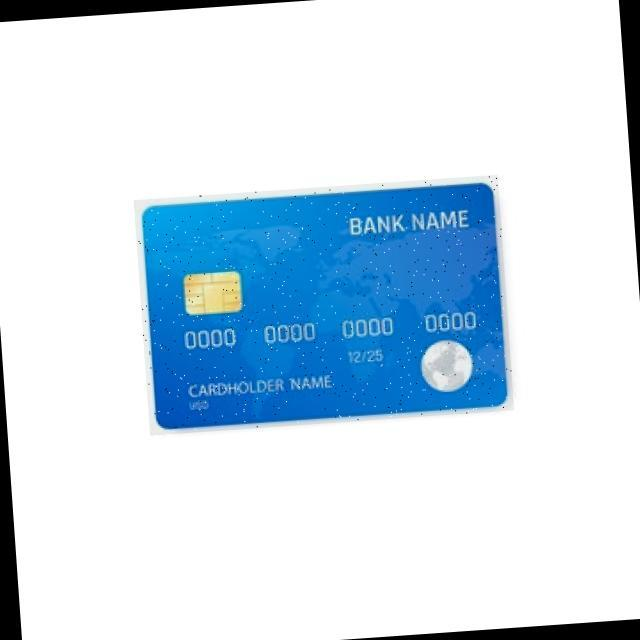payment_card: (133, 174, 512, 432)
